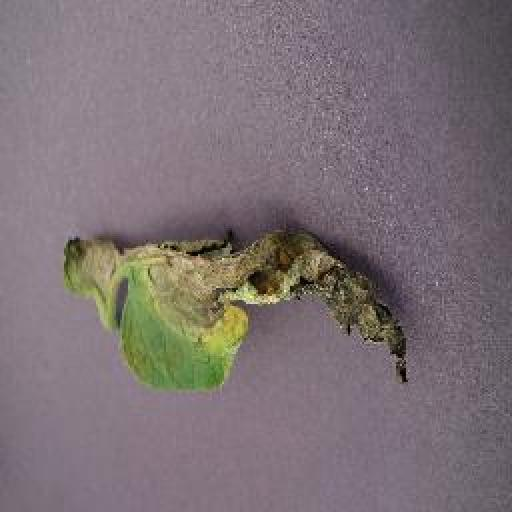disease_tomato: (62, 224, 408, 394)
